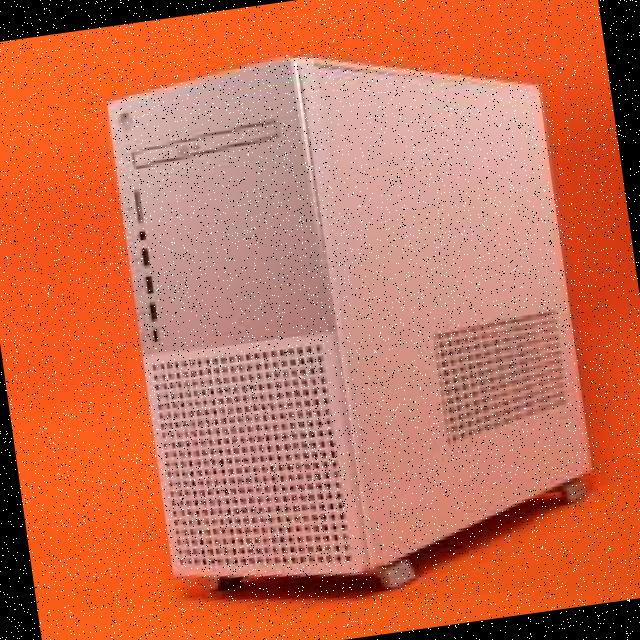Computer: (81, 11, 624, 630)
